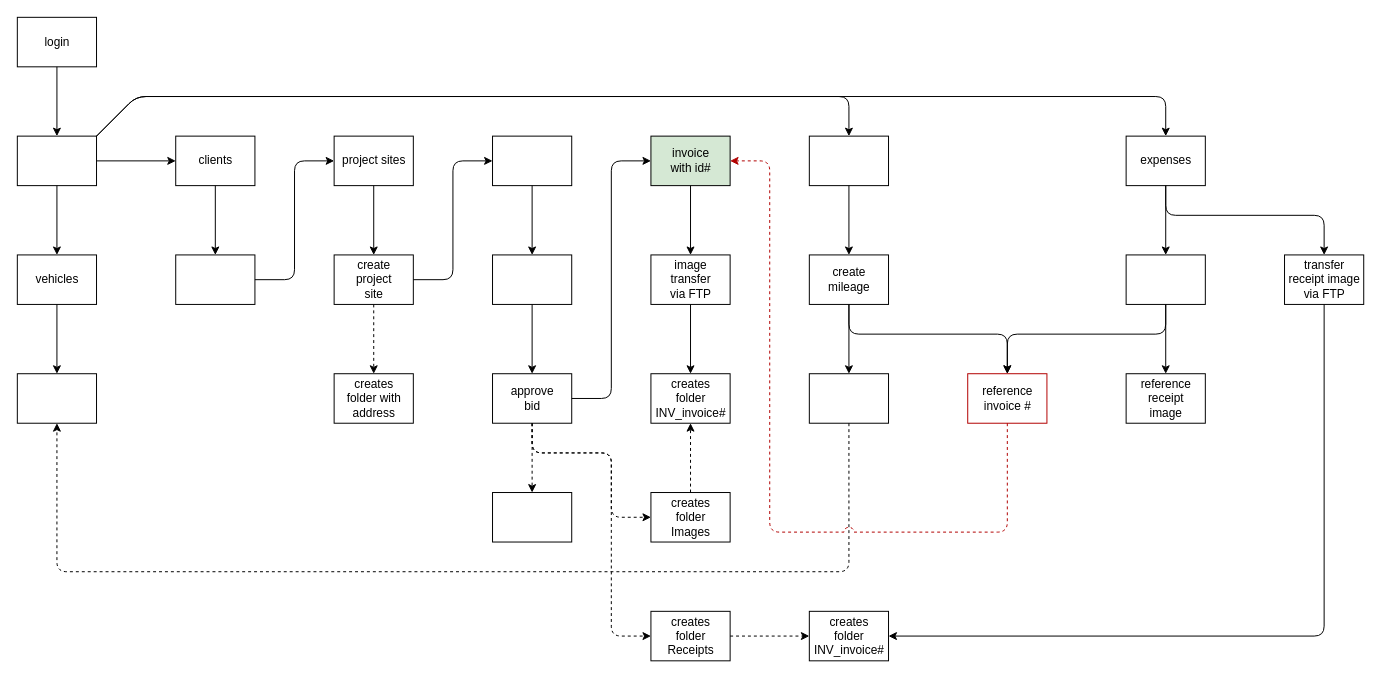
This 1381x678 diagram has some shape labels left out. The shapes that lost their labels are listed below. From the top down, each one's box as (x1, y1, x2, y2) in pixels, then its label:
(16, 135, 97, 186): dashboard
(492, 135, 572, 186): bids
(808, 135, 889, 186): mileage
(175, 254, 255, 304): create client
(492, 254, 572, 304): create bid
(1125, 254, 1205, 304): create expense
(16, 373, 97, 423): add vehicle
(808, 373, 889, 423): reference vehicle
(492, 492, 572, 542): creates invoice
